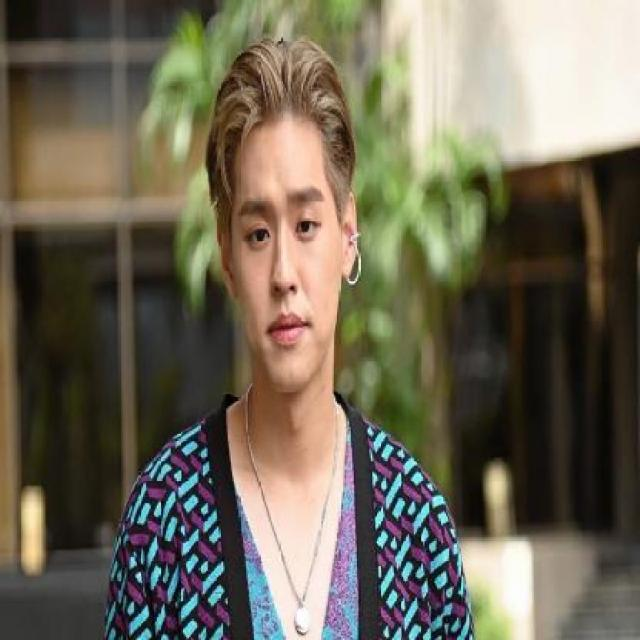sem_oculos: (221, 176, 368, 244)
